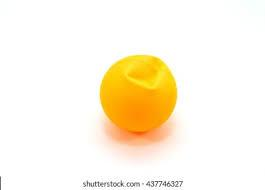oball: (96, 52, 183, 140)
